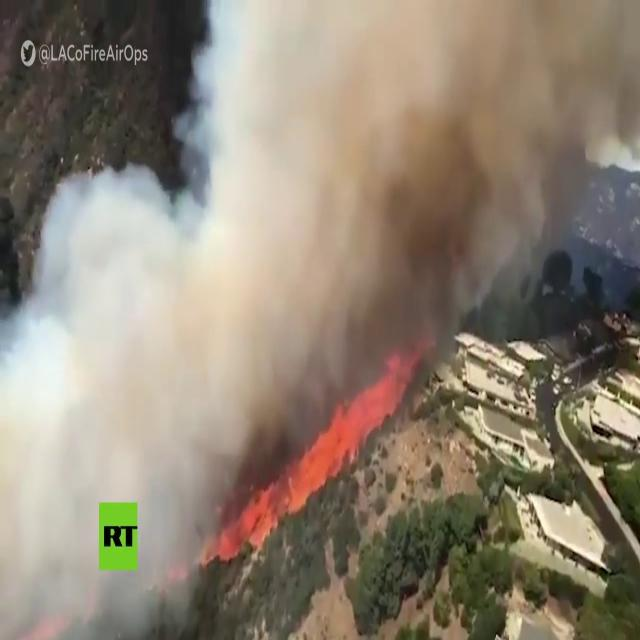Smoke: (42, 212, 490, 382), (218, 0, 618, 178), (3, 399, 214, 629)
